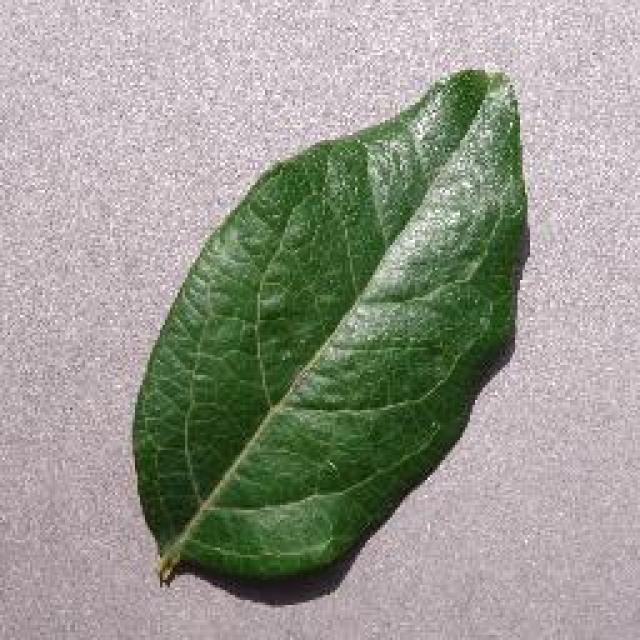Blu_healthy: (185, 152, 519, 486)
